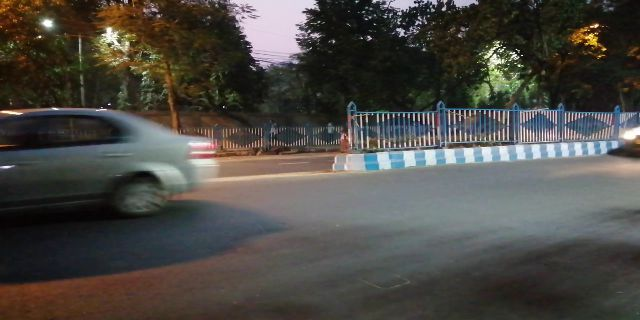Car: (6, 105, 220, 218)
